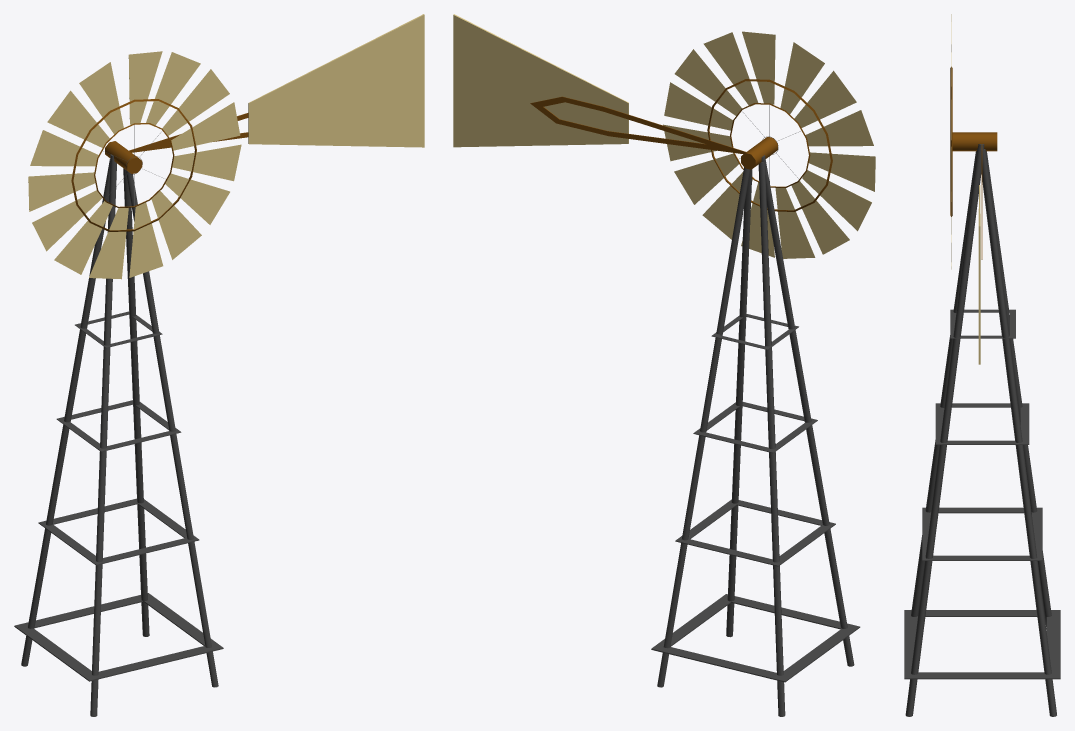
File: catavento.FBX
3 renders of one model, left to right at view 1: azimuth 30°, elevation 25°; view 2: azimuth 150°, elevation 25°; view 3: azimuth 270°, elevation 25°, orthographic. The views are drawn at different scales.
Parts seen in each view (by area): view 1: Fazenda_Catavento; view 2: Fazenda_Catavento; view 3: Fazenda_Catavento.
Part boxes in pixels (box(x1,y1,x2,y2)): Fazenda_Catavento: box(14, 14, 424, 716); Fazenda_Catavento: box(453, 14, 875, 716); Fazenda_Catavento: box(904, 14, 1060, 716).
Bounding box in the file's own units: 7.38 × 2.35 × 10.91.
